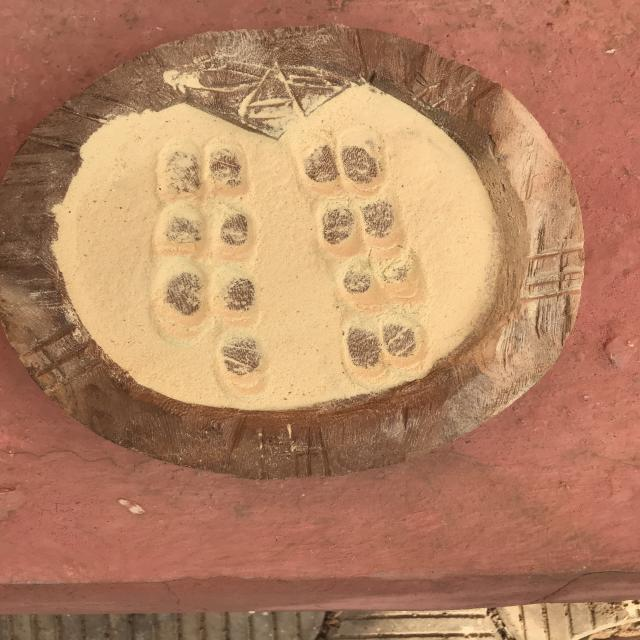double: (153, 260, 263, 328), (155, 133, 256, 204), (156, 199, 262, 266), (294, 128, 392, 198), (333, 307, 433, 374), (308, 197, 409, 257), (328, 254, 431, 306)
single: (216, 328, 272, 393)
